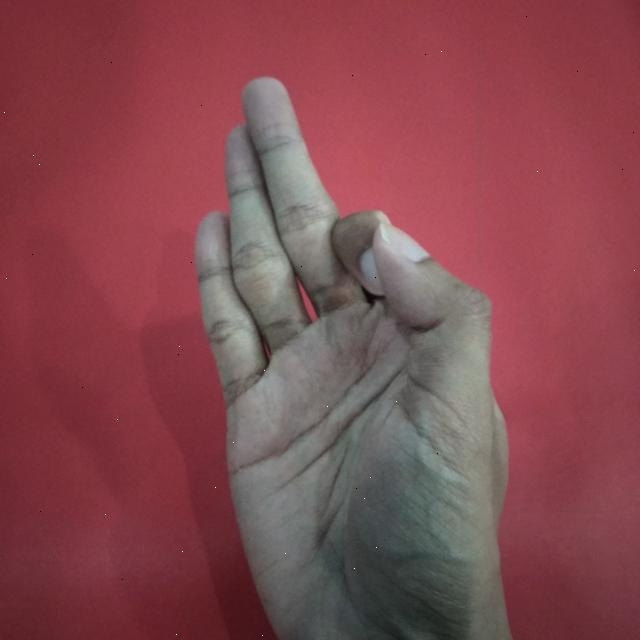F: (195, 70, 514, 640)
